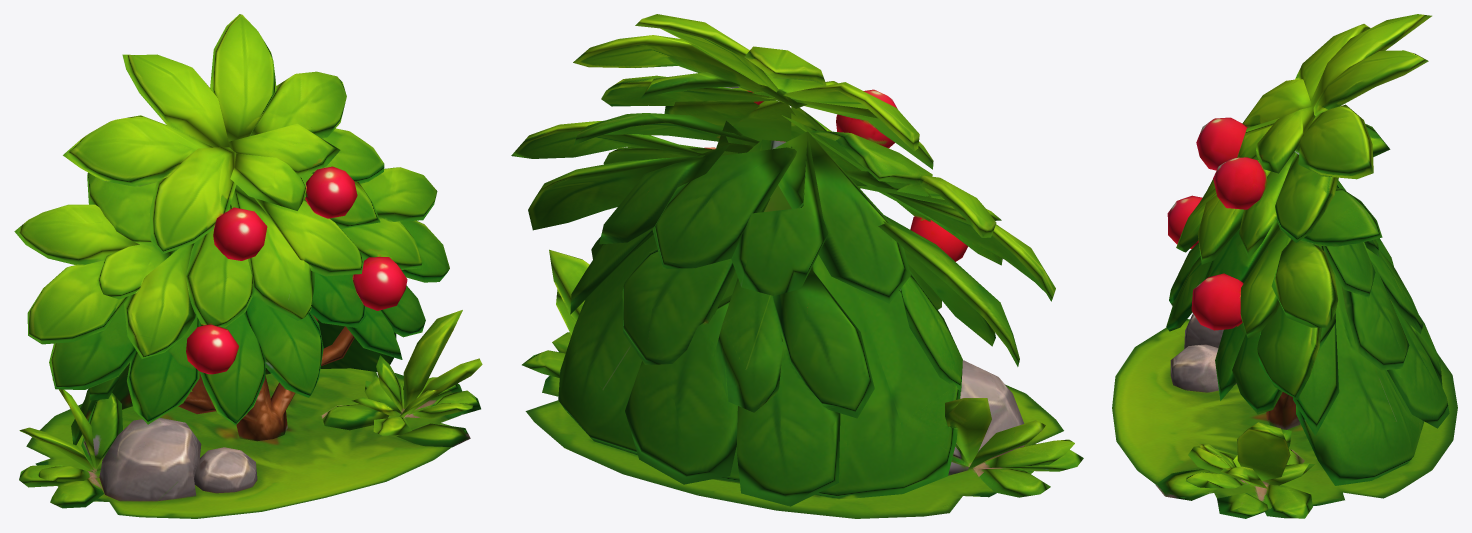
File: etapa75.glb
3 views of the same model, side by side, from view 1: azimuth 30°, elevation 25°; view 2: azimuth 150°, elevation 25°; view 3: azimuth 270°, elevation 25° (orthographic). The views are drawn at different scales.
Size of the model in its own units: 1 by 0.8114 by 0.6606.
Materials: 1 (1 with a texture image).
